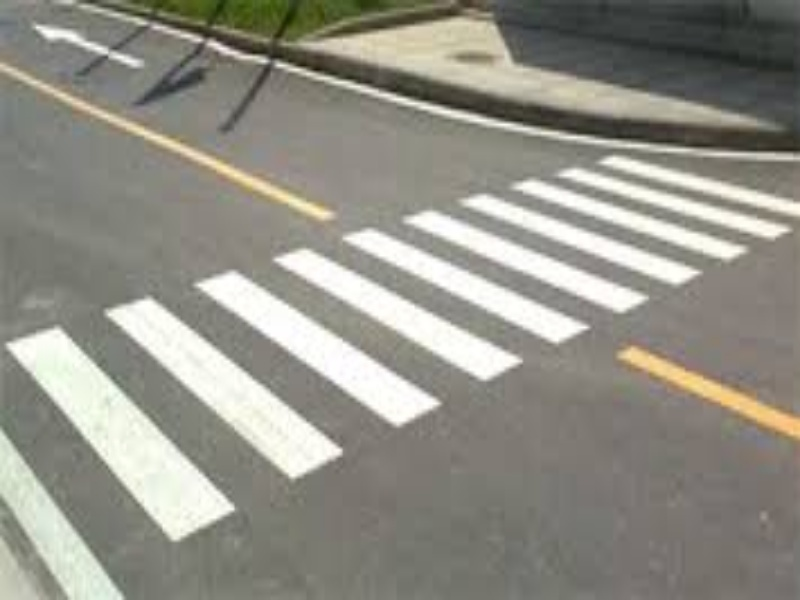zebra cross: (2, 152, 800, 596)
